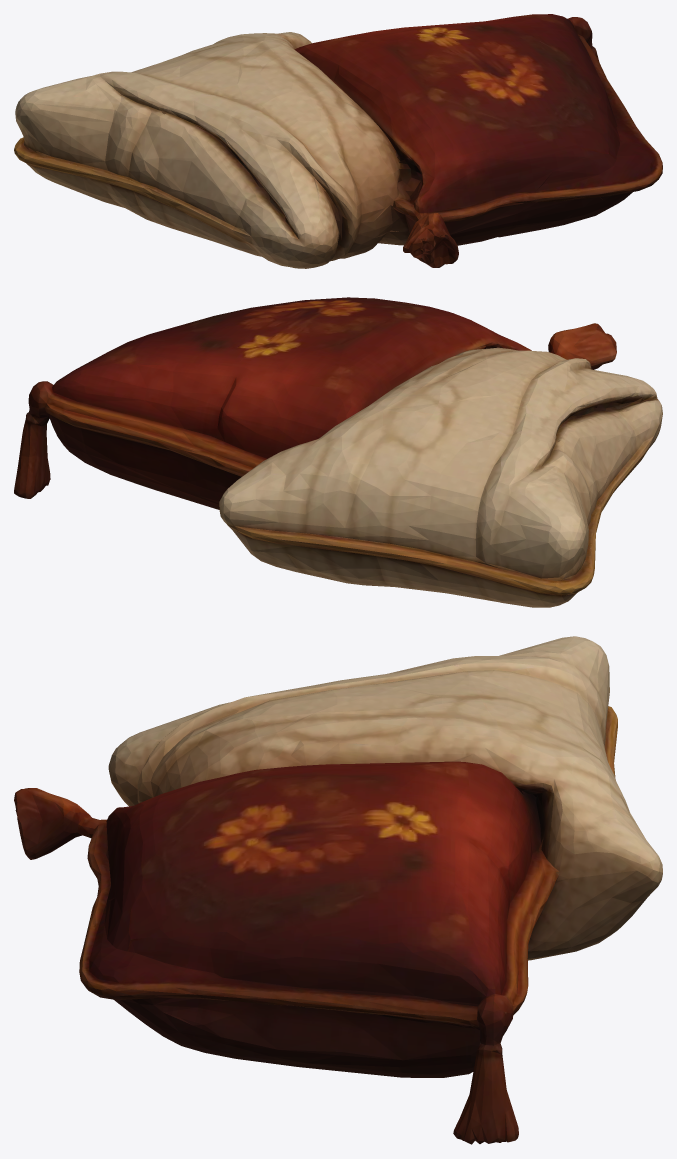
The picture shows the model from 3 angles, top to bottom: view 1: azimuth 30°, elevation 25°; view 2: azimuth 150°, elevation 25°; view 3: azimuth 270°, elevation 25°; orthographic projection. The views are drawn at different scales.
Parts seen in each view (by area): view 1: world; view 2: world; view 3: world.
Part boxes in pixels (box(x1,y1,x2,y2)): world: box(14, 14, 662, 268); world: box(14, 297, 662, 607); world: box(14, 636, 662, 1144).
Bounding box in the file's own units: 0.9977 × 0.2759 × 0.7762.
Materials: 1 (1 with a texture image).
